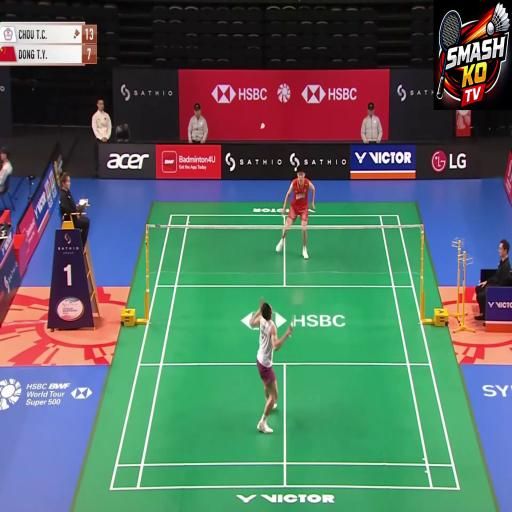player: (239, 290, 308, 468), (273, 143, 330, 292)
